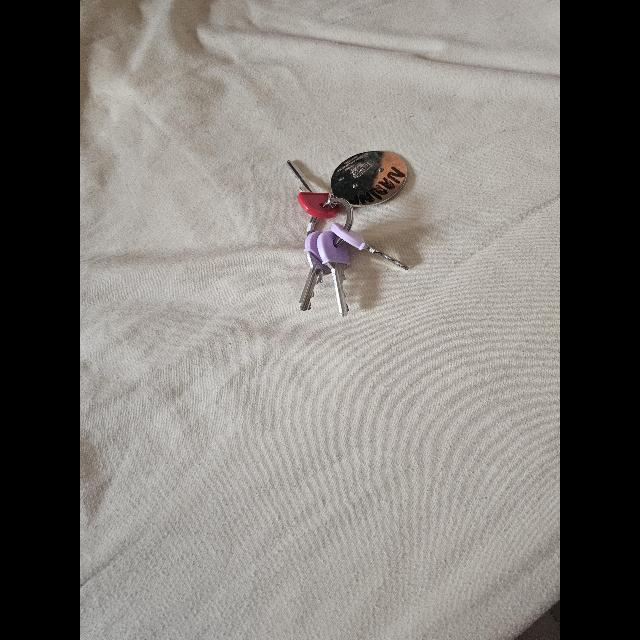Keys: (288, 152, 414, 318)
